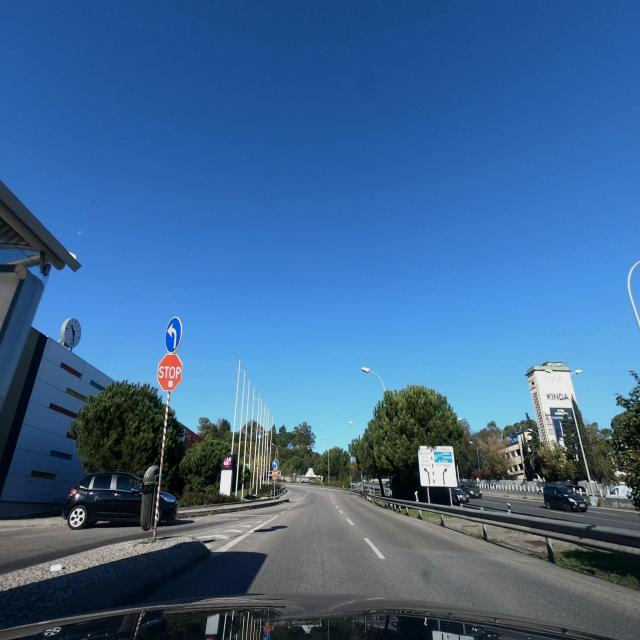car: (64, 470, 178, 530), (543, 485, 588, 513), (450, 487, 470, 503), (462, 482, 482, 498)
